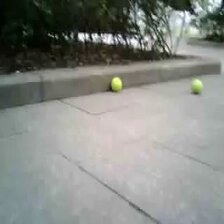tennis: (191, 79, 203, 93), (111, 77, 122, 89)
